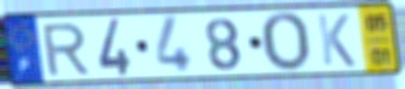4: (154, 13, 194, 78), (95, 17, 132, 79)
8: (203, 16, 244, 72)
K: (314, 12, 358, 69)
O: (258, 10, 312, 74)
R: (39, 21, 92, 78)
